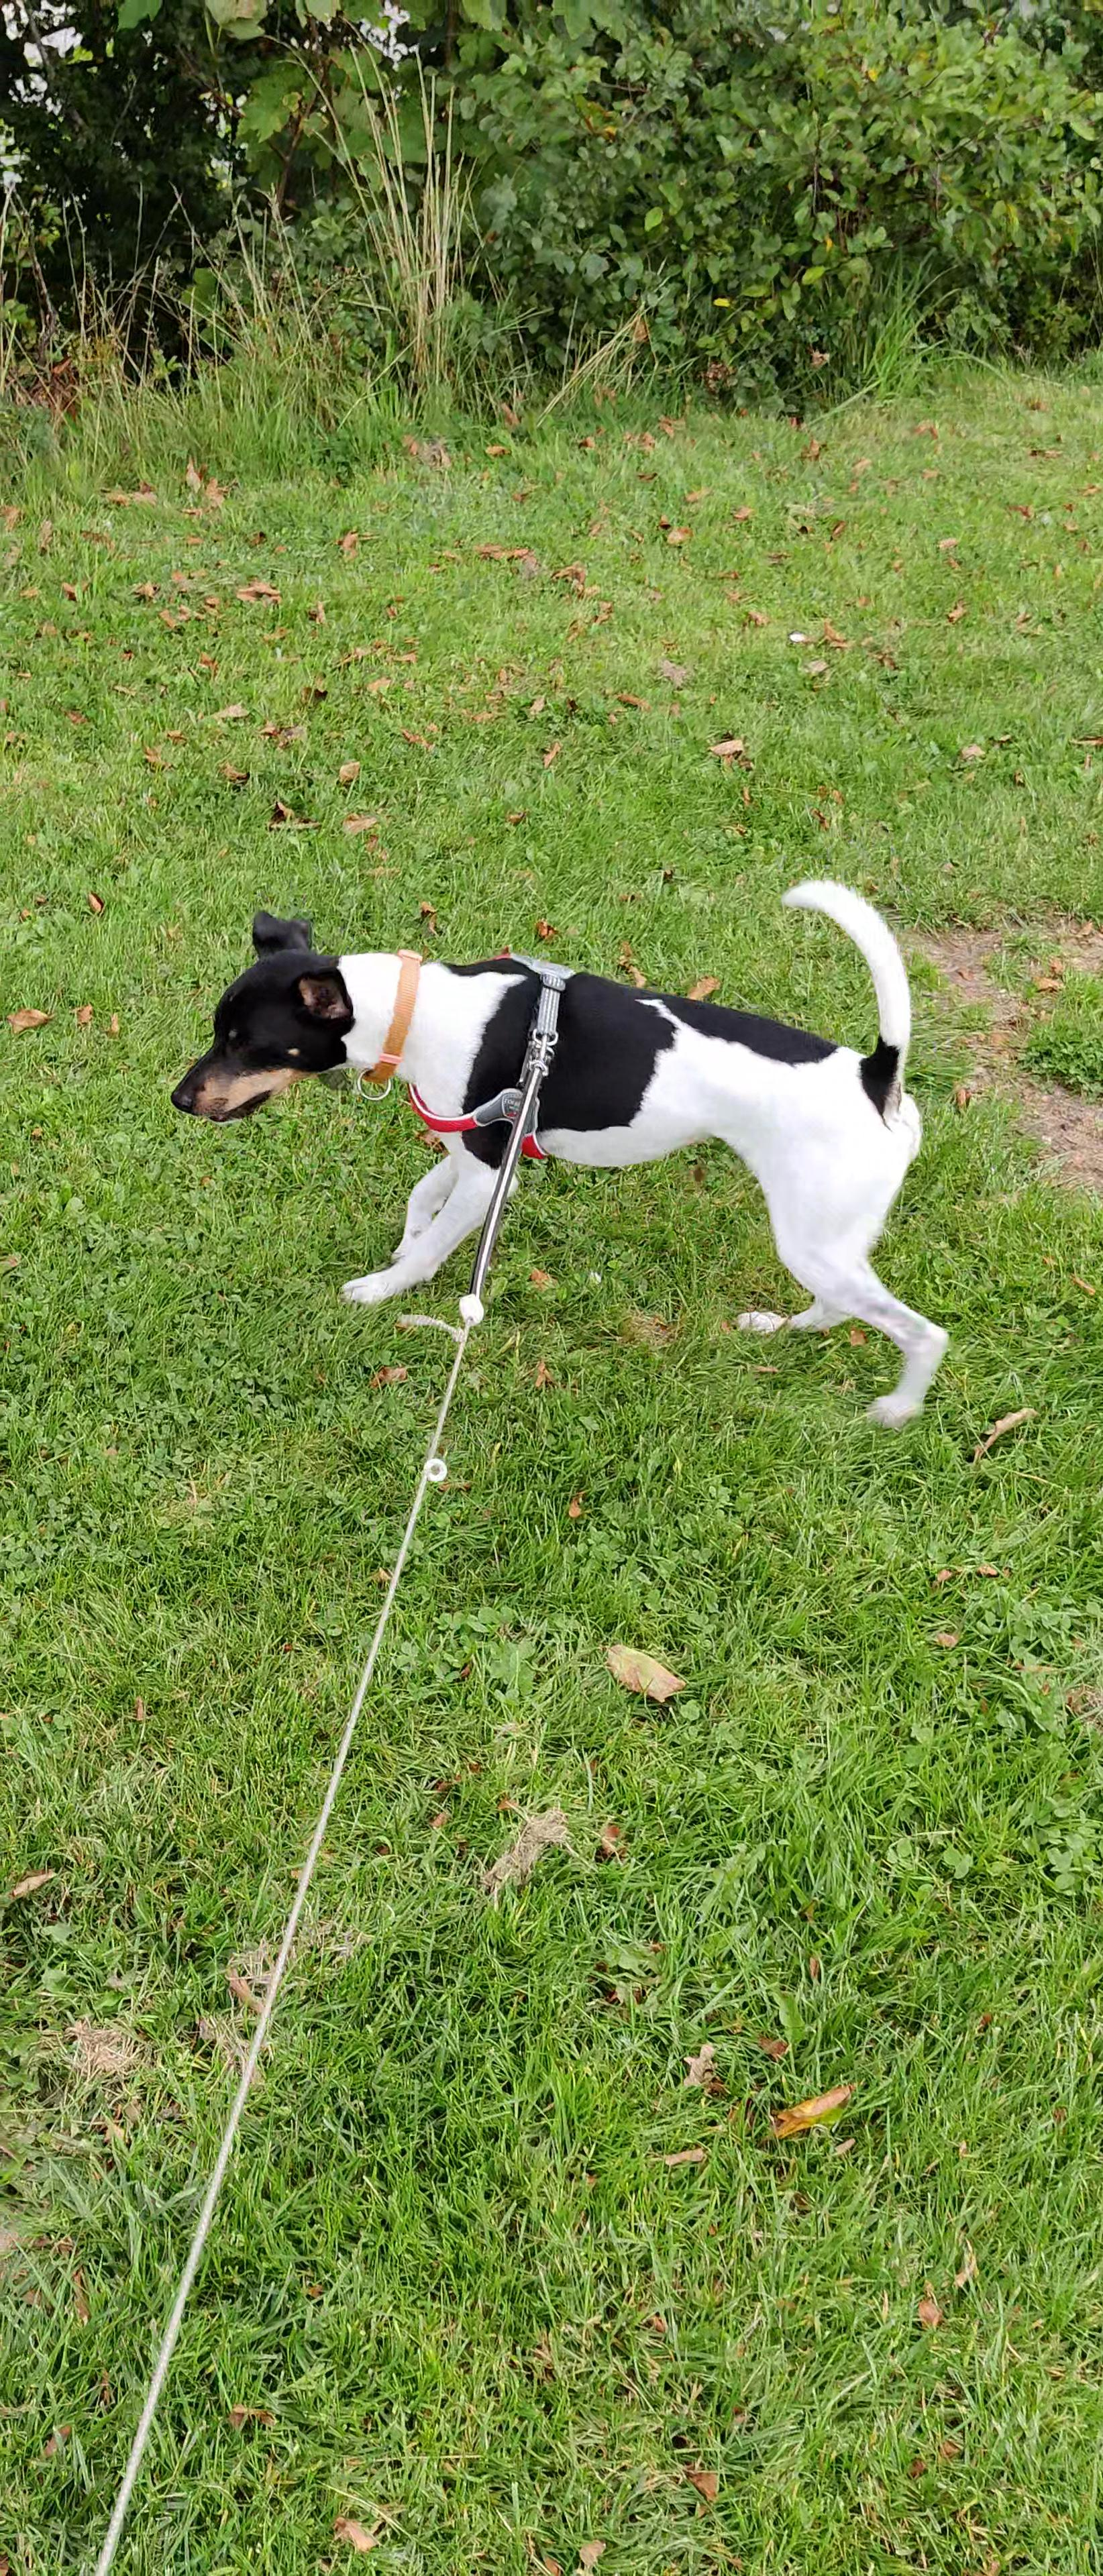Dog: (163, 874, 960, 1442)
